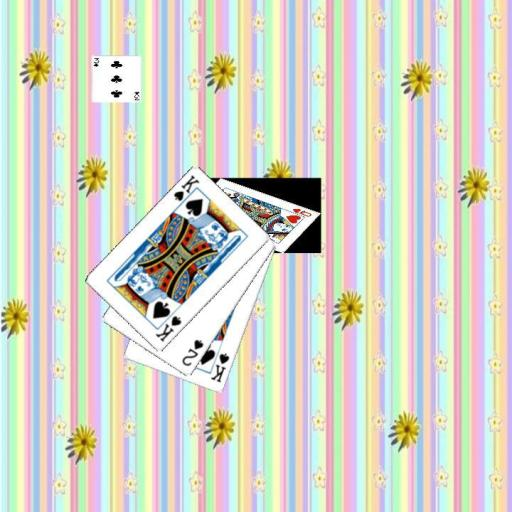2S: (178, 336, 205, 368)
KS: (171, 172, 201, 208), (152, 313, 183, 343), (208, 350, 231, 384)
